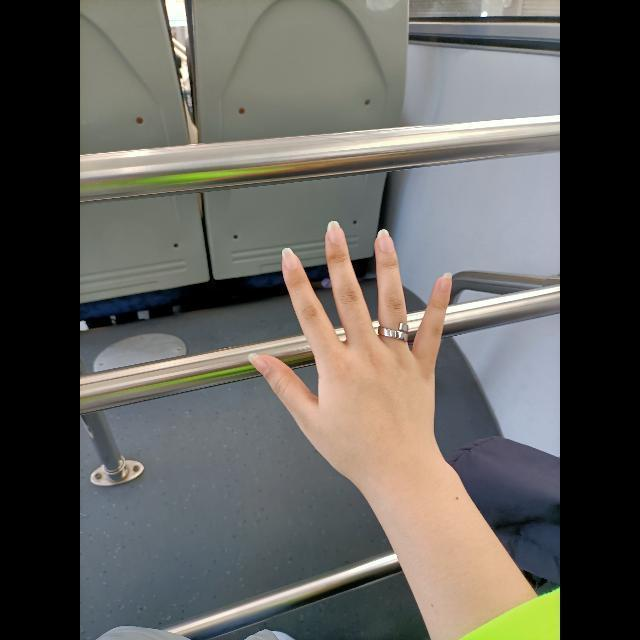bare_hand: (248, 217, 453, 471)
